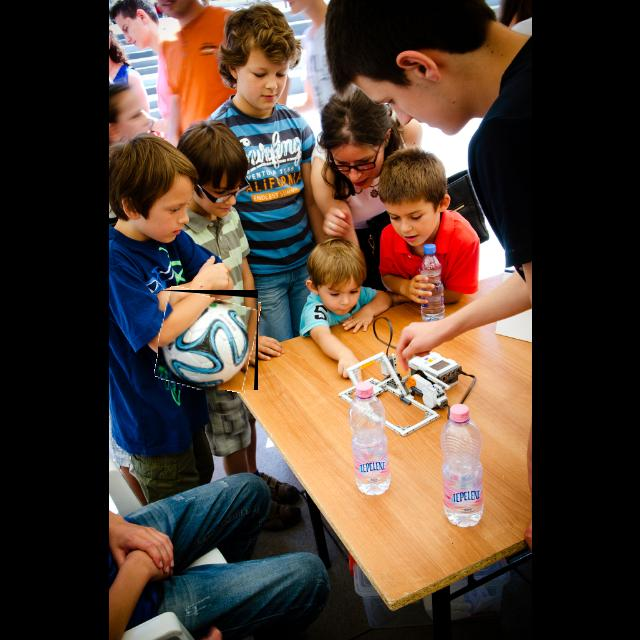Football: (158, 290, 258, 390)
